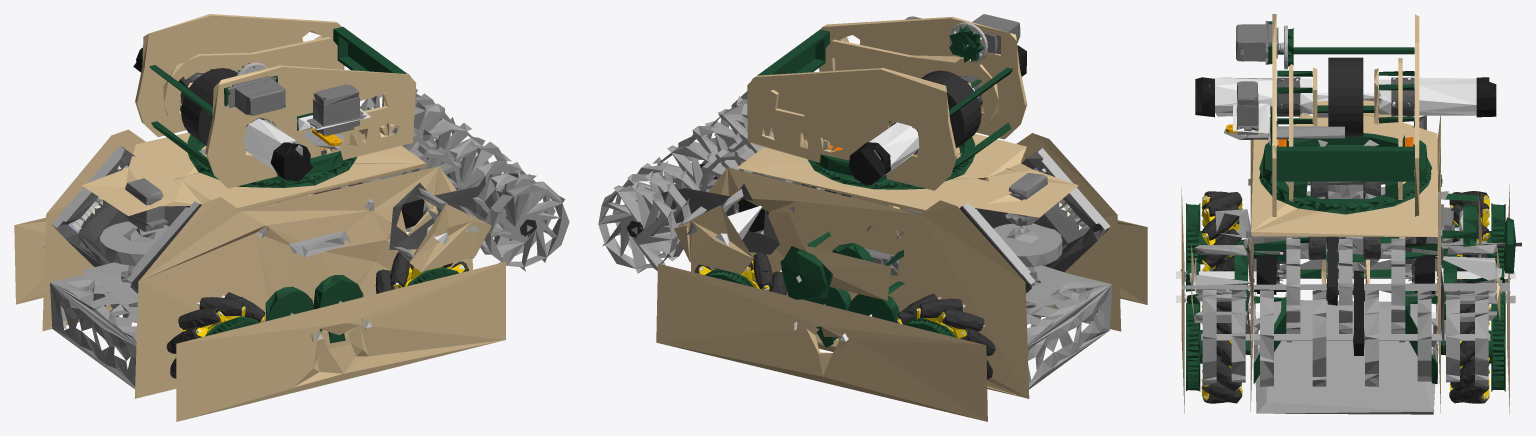
The model's file is uran-v1-low.glb.
The picture shows the model from 3 angles, left to right: view 1: azimuth 30°, elevation 25°; view 2: azimuth 150°, elevation 25°; view 3: azimuth 270°, elevation 25°; orthographic projection.
Visible parts, largest first — view 1: body, turret, intake_front, wheel_br, flywheel, wheel_fr, intake_back; view 2: body, turret, intake_front, wheel_bl, flywheel, wheel_fl, intake_back; view 3: body, turret, intake_front, intake_back, wheel_br, wheel_fr, wheel_fl, flywheel, wheel_bl, transfer_front, transfer_back.
Part boxes in pixels (x1,y1,x2,y2): body: [14, 129, 532, 421]; turret: [133, 14, 416, 188]; intake_front: [360, 88, 569, 271]; wheel_br: [166, 292, 268, 378]; flywheel: [181, 68, 237, 145]; wheel_fr: [370, 249, 468, 295]; intake_back: [362, 106, 464, 231]; body: [631, 133, 1147, 421]; turret: [747, 14, 1027, 190]; intake_front: [598, 91, 764, 273]; wheel_bl: [894, 293, 995, 379]; flywheel: [921, 70, 981, 148]; wheel_fl: [695, 252, 786, 295]; intake_back: [698, 125, 801, 234]; body: [1176, 100, 1521, 414]; turret: [1195, 14, 1496, 216]; intake_front: [1202, 289, 1488, 386]; intake_back: [1286, 238, 1405, 333]; wheel_br: [1186, 191, 1242, 291]; wheel_fr: [1186, 292, 1242, 403]; wheel_fl: [1449, 293, 1505, 403]; flywheel: [1328, 57, 1363, 136]; wheel_bl: [1449, 191, 1505, 283]; transfer_front: [1308, 236, 1380, 259]; transfer_back: [1310, 181, 1380, 198].
Size of the model in its own units: 0.4403 by 0.3049 by 0.3158.
